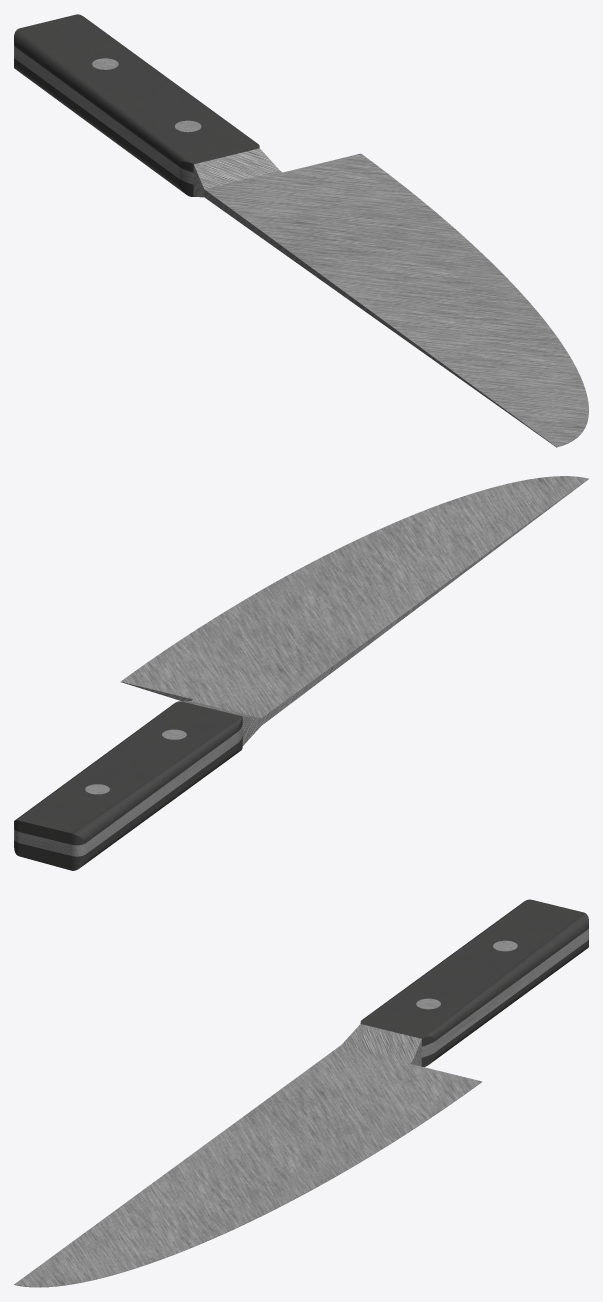
File: knife.glb
The picture shows the model from 3 angles, top to bottom: view 1: azimuth 30°, elevation 25°; view 2: azimuth 150°, elevation 25°; view 3: azimuth 330°, elevation 25°; orthographic projection. The views are drawn at different scales.
Visible parts, largest first — view 1: blade; view 2: blade; view 3: blade.
Part boxes in pixels (bbox=[...]): blade: bbox=[14, 14, 588, 447]; blade: bbox=[14, 476, 588, 870]; blade: bbox=[14, 899, 588, 1287].
Size of the model in its own units: 0.4 by 0.0993 by 2.46.
2 materials, 2 textured.
